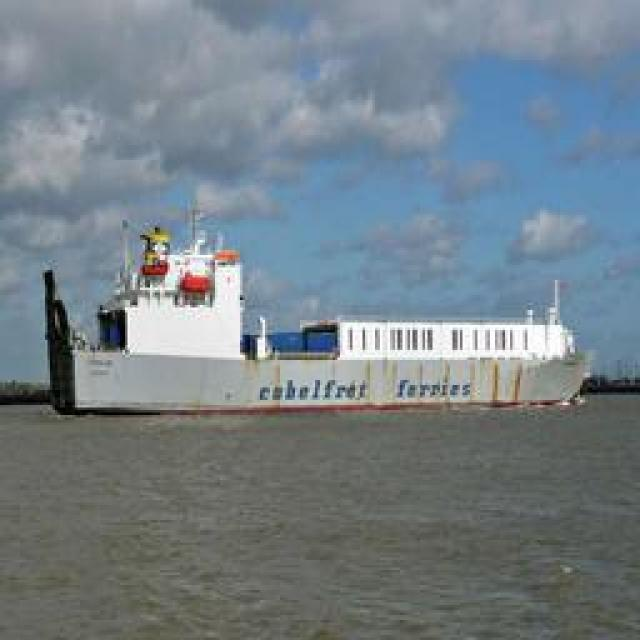CIV_Ship: (42, 218, 588, 410)
